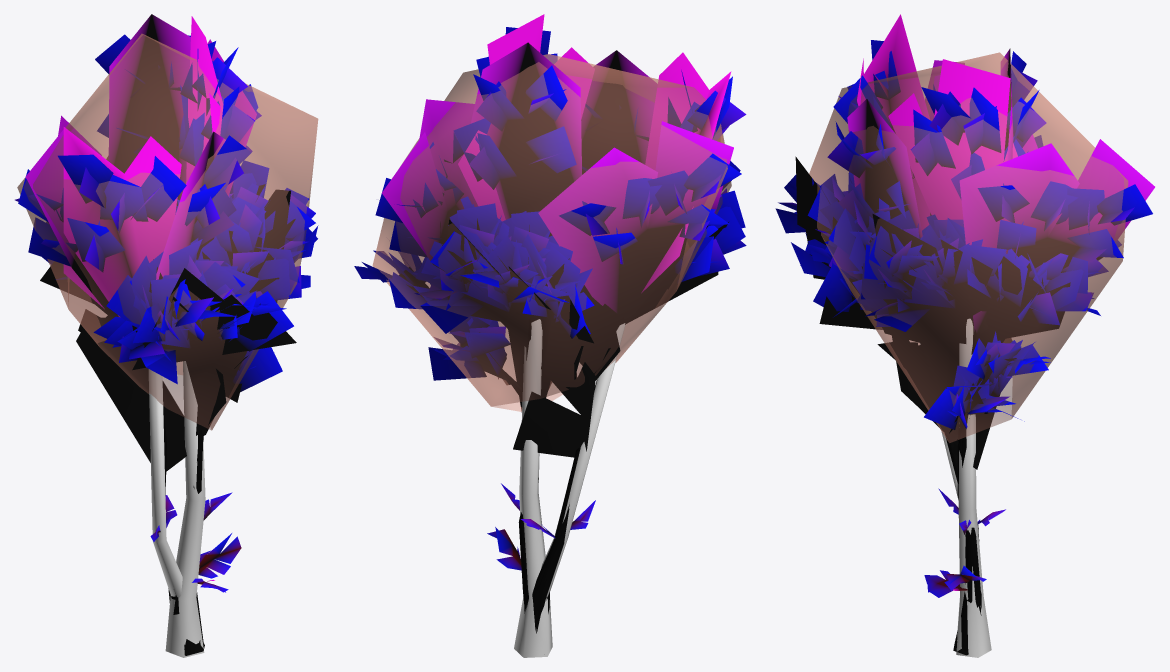
The model's file is tree_beech_forest_b.dae.
3 views of the same model, side by side, from view 1: azimuth 30°, elevation 25°; view 2: azimuth 150°, elevation 25°; view 3: azimuth 270°, elevation 25° (orthographic). The views are drawn at different scales.
Parts seen in each view (by area): view 1: beech_forest_b_a1500, Colmesh_forest_b-1, beech_forest_b_a400; view 2: beech_forest_b_a1500, Colmesh_forest_b-1, beech_forest_b_a400; view 3: Colmesh_forest_b-1, beech_forest_b_a1500, beech_forest_b_a400.
Part boxes in pixels (left/top/right/bottom): beech_forest_b_a1500: left=15, top=15, right=318, bottom=655; Colmesh_forest_b-1: left=17, top=33, right=318, bottom=657; beech_forest_b_a400: left=42, top=14, right=301, bottom=655; beech_forest_b_a1500: left=354, top=14, right=746, bottom=630; Colmesh_forest_b-1: left=372, top=54, right=731, bottom=657; beech_forest_b_a400: left=357, top=43, right=733, bottom=633; Colmesh_forest_b-1: left=809, top=52, right=1128, bottom=657; beech_forest_b_a1500: left=775, top=40, right=1154, bottom=655; beech_forest_b_a400: left=784, top=14, right=1154, bottom=652.
Size of the model in its own units: 11.73 by 12.19 by 21.07.
